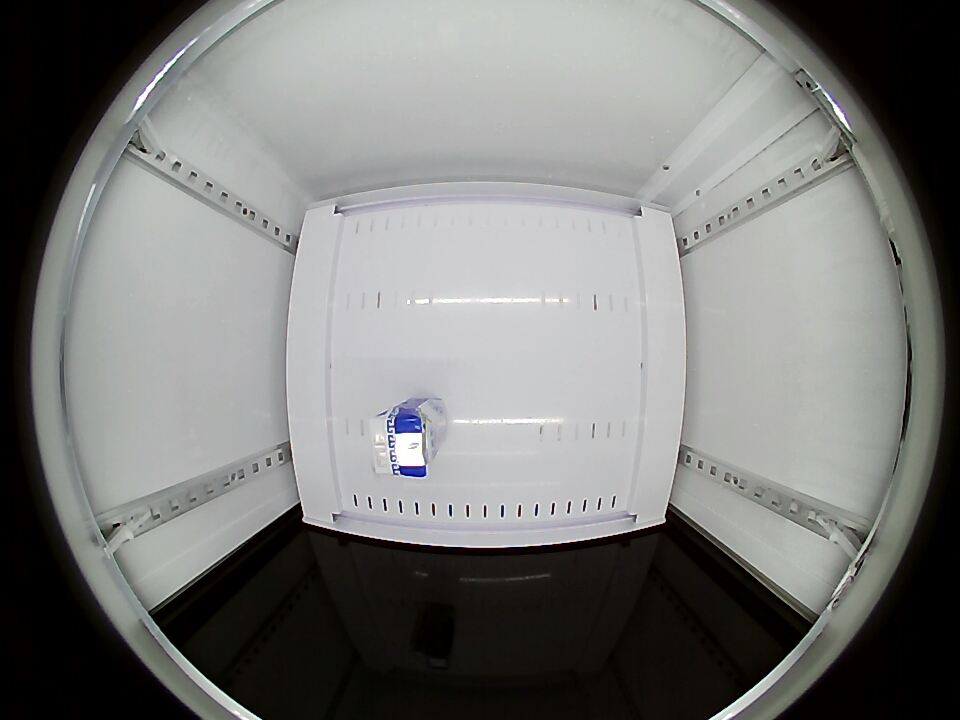anmuxi: (368, 400, 439, 479)
